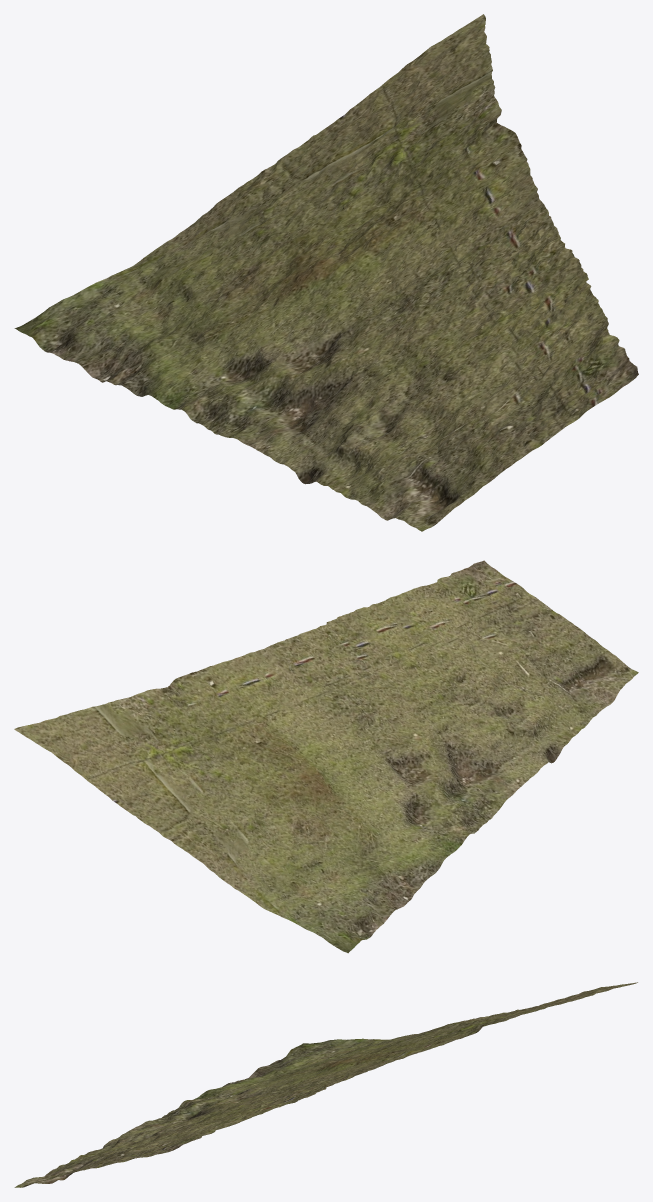
3 views of the same model, one above another, from view 1: azimuth 30°, elevation 25°; view 2: azimuth 150°, elevation 25°; view 3: azimuth 330°, elevation 25° (orthographic). The views are drawn at different scales.
Size of the model in its own units: 3.36 by 1.37 by 5.05.
1 material, 1 textured.
